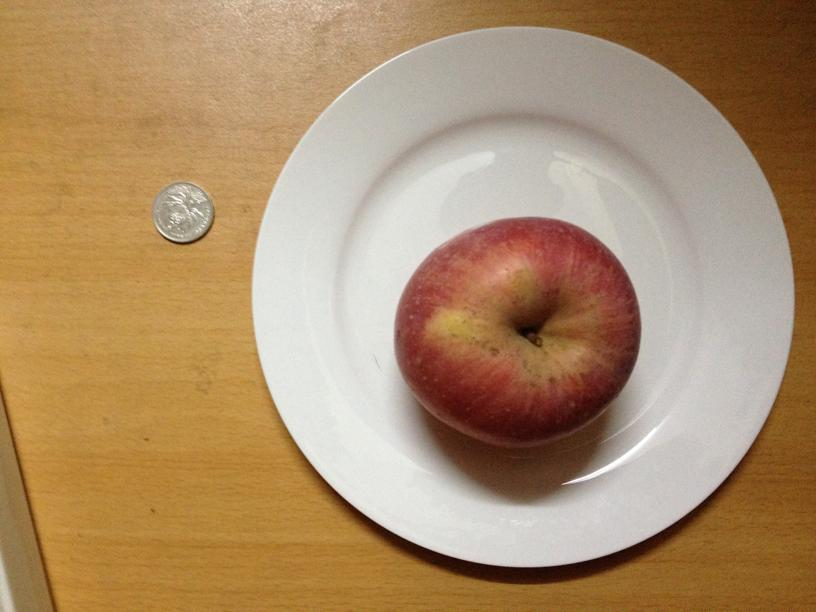apple: (398, 222, 639, 445)
coin: (150, 183, 213, 244)
